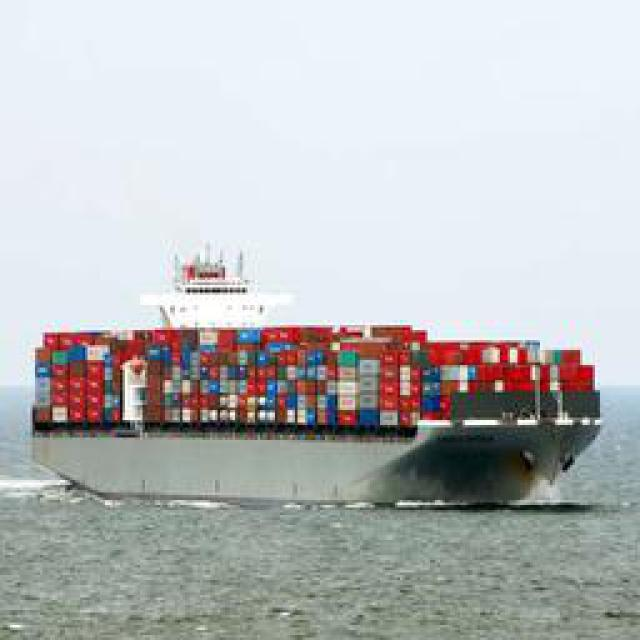Ship: (27, 233, 610, 520)
